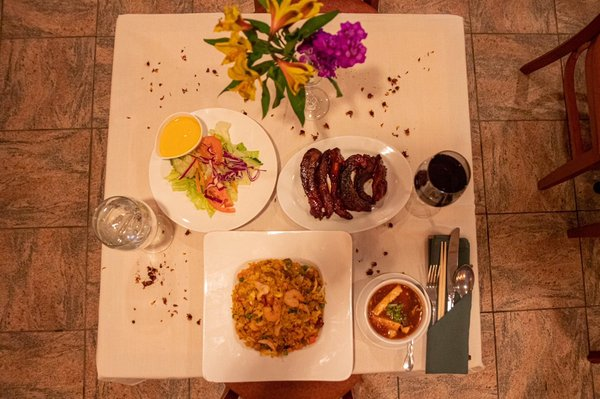sushi: (150, 108, 280, 233), (365, 279, 431, 343), (95, 196, 158, 251), (414, 150, 472, 207)
taco: (156, 114, 203, 159)
